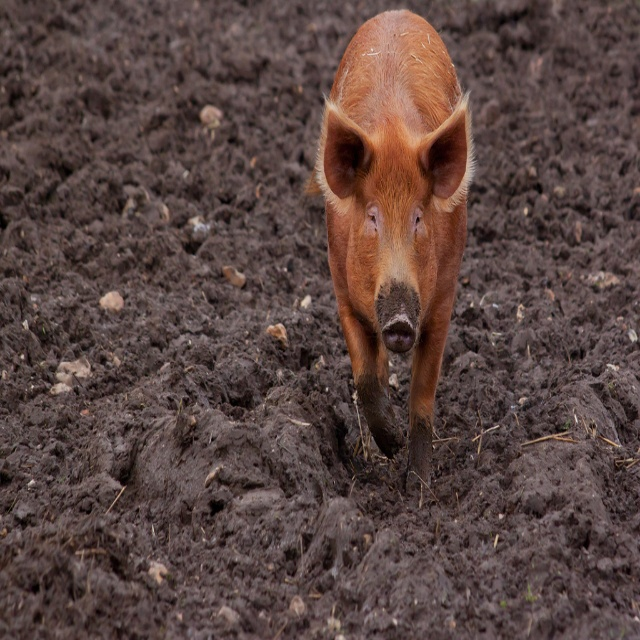Pig: (304, 9, 473, 497)
